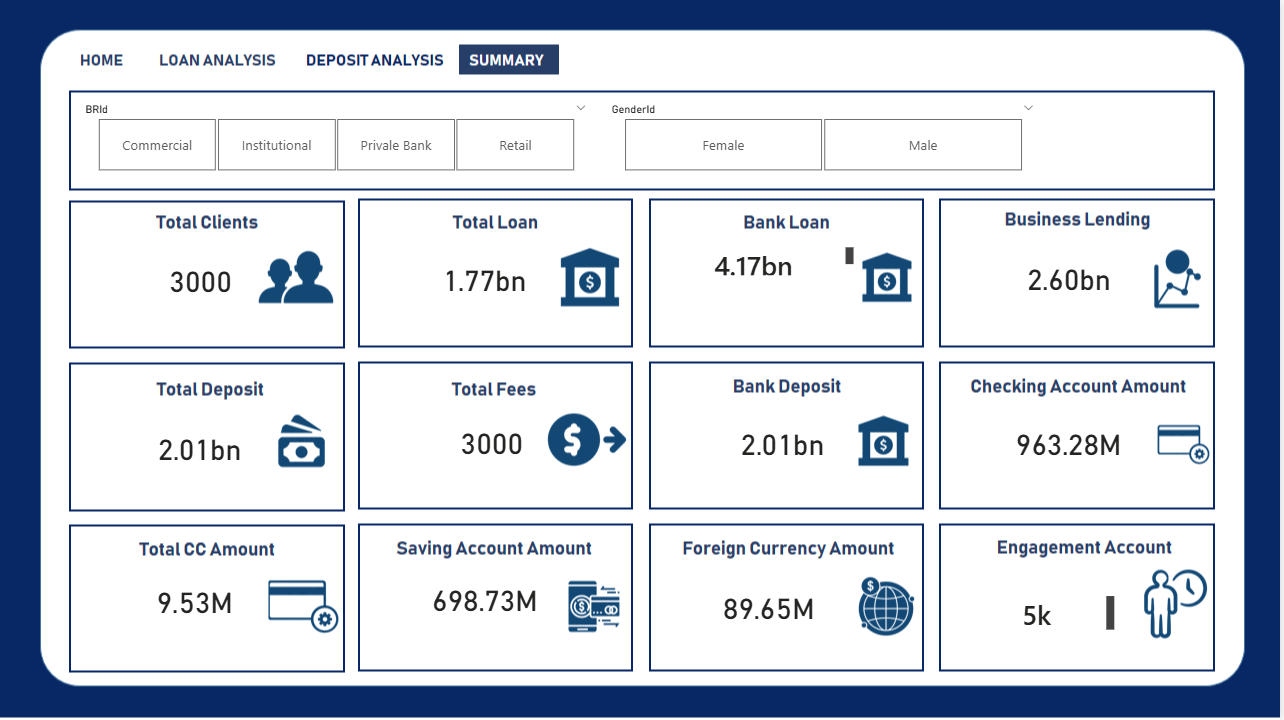

The dashboard page shown, as its layout file describes it:
{"tool":"powerbi","page":{"name":"Summary","canvas":[1280,720],"ordinal":3},"visuals":[{"type":"slicer","fields":{"Values":["Banking_Clients.BRId"]},"box":[72.9,97.1,525.7,80],"z":0},{"type":"slicer","fields":{"Values":["Banking_Clients.GenderId"]},"box":[598.6,97.1,447.1,80],"z":1000},{"type":"actionButton","box":[300.5,42.5,146.8,37],"z":2000},{"type":"actionButton","box":[141.4,42.9,147.1,37.1],"z":3000},{"type":"card","fields":{"Values":["CountNonNull(Banking_Clients.Name)"]},"box":[122.4,243.4,156.4,72.7],"z":4000},{"type":"card","fields":{"Values":["Sum(Banking_Clients.Bank Loans)"]},"box":[405.7,242.9,157.1,72.9],"z":5000},{"type":"card","fields":{"Values":["Sum(Banking_Clients.Bank Deposits)"]},"box":[121.4,412.9,157.1,71.4],"z":6000},{"type":"card","fields":{"Values":["Sum(Banking_Clients.Credit Card Balance)"]},"box":[121.4,578.6,147.1,44.3],"z":7000},{"type":"card","fields":{"Values":["Sum(Banking_Clients.Saving Accounts)"]},"box":[405.7,562.9,157.1,72.9],"z":8000},{"type":"card","fields":{"Values":["CountNonNull(Banking_Clients.Fee Structure)"]},"box":[421.4,401.4,141.4,82.9],"z":9000},{"type":"card","fields":{"Values":["Sum(Banking_Clients.Bank Deposits)"]},"box":[721.4,417.1,122.9,51.4],"z":10000},{"type":"card","fields":{"Values":["Sum(Banking_Clients.Business Lending)"]},"box":[985.7,241.4,165.7,74.3],"z":10001},{"type":"card","fields":{"Values":["Sum(Banking_Clients.Checking Accounts)"]},"box":[990,407.1,157.1,71.4],"z":10002},{"type":"card","fields":{"Values":["Sum(Banking_Clients.Foreign Currency Account)"]},"box":[694.3,578.6,150,57.1],"z":10003},{"type":"textbox","box":[1017.1,591.4,101.4,44.3],"z":10004},{"type":"textbox","box":[708.6,242.9,150,38],"z":10005},{"type":"actionButton","box":[57.6,42.5,89.2,37],"z":10006}]}

Visuals, with their boxes in screenshot pixels (x1, y1, x2, y2), scaled from the page's 1280x720 canvas onto the 1284x720 screenshot:
slicer - Banking_Clients.BRId: bbox(73, 97, 600, 177)
slicer - Banking_Clients.GenderId: bbox(600, 97, 1049, 177)
actionButton: bbox(301, 42, 449, 80)
actionButton: bbox(142, 43, 289, 80)
card - CountNonNull(Banking_Clients.Name): bbox(123, 243, 280, 316)
card - Sum(Banking_Clients.Bank Loans): bbox(407, 243, 565, 316)
card - Sum(Banking_Clients.Bank Deposits): bbox(122, 413, 279, 484)
card - Sum(Banking_Clients.Credit Card Balance): bbox(122, 579, 269, 623)
card - Sum(Banking_Clients.Saving Accounts): bbox(407, 563, 565, 636)
card - CountNonNull(Banking_Clients.Fee Structure): bbox(423, 401, 565, 484)
card - Sum(Banking_Clients.Bank Deposits): bbox(724, 417, 847, 468)
card - Sum(Banking_Clients.Business Lending): bbox(989, 241, 1155, 316)
card - Sum(Banking_Clients.Checking Accounts): bbox(993, 407, 1151, 478)
card - Sum(Banking_Clients.Foreign Currency Account): bbox(696, 579, 847, 636)
textbox: bbox(1020, 591, 1122, 636)
textbox: bbox(711, 243, 861, 281)
actionButton: bbox(58, 42, 147, 80)
